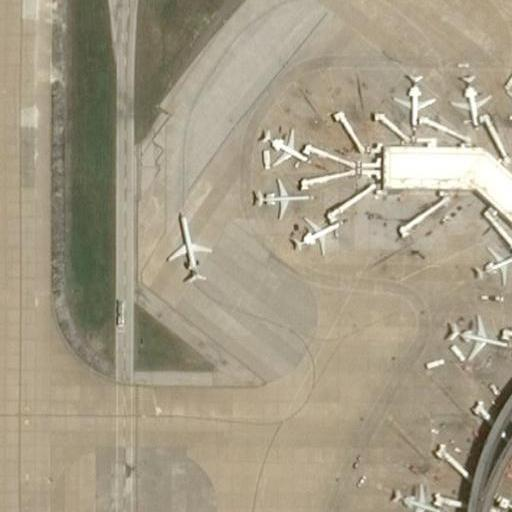Aircraft: (156, 210, 212, 289), (237, 171, 317, 217), (446, 66, 493, 134), (386, 68, 436, 130), (446, 313, 509, 362), (251, 119, 310, 169), (286, 212, 347, 257), (468, 238, 512, 285), (387, 480, 442, 512), (498, 63, 512, 133)
